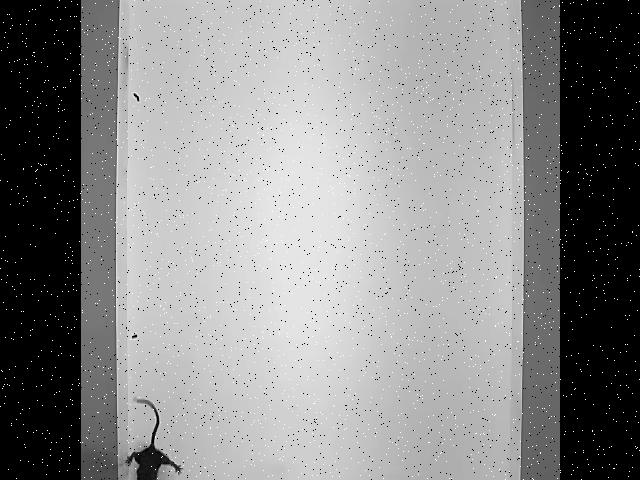Tikus: (114, 379, 186, 480)
